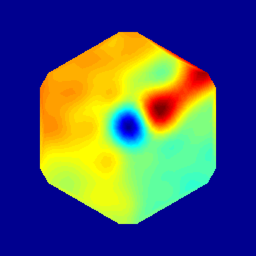ship: (116, 112, 145, 136)
wave: (136, 83, 195, 128)
